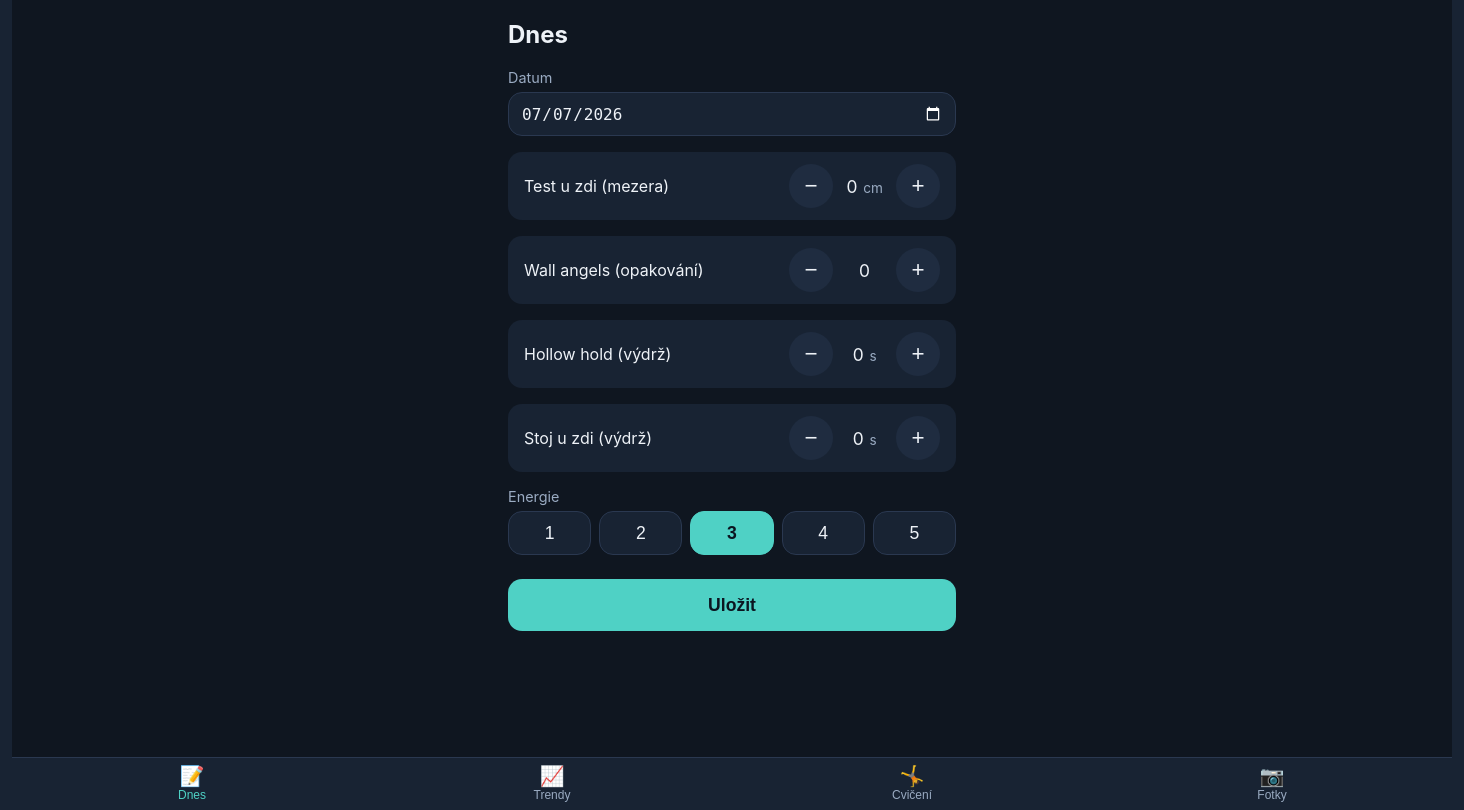
it: App › switches to Trendy, Cvičení and Fotky via the bottom tab bar
Click the button "📈 Trendy" at [552, 784], box [372,758,732,809]
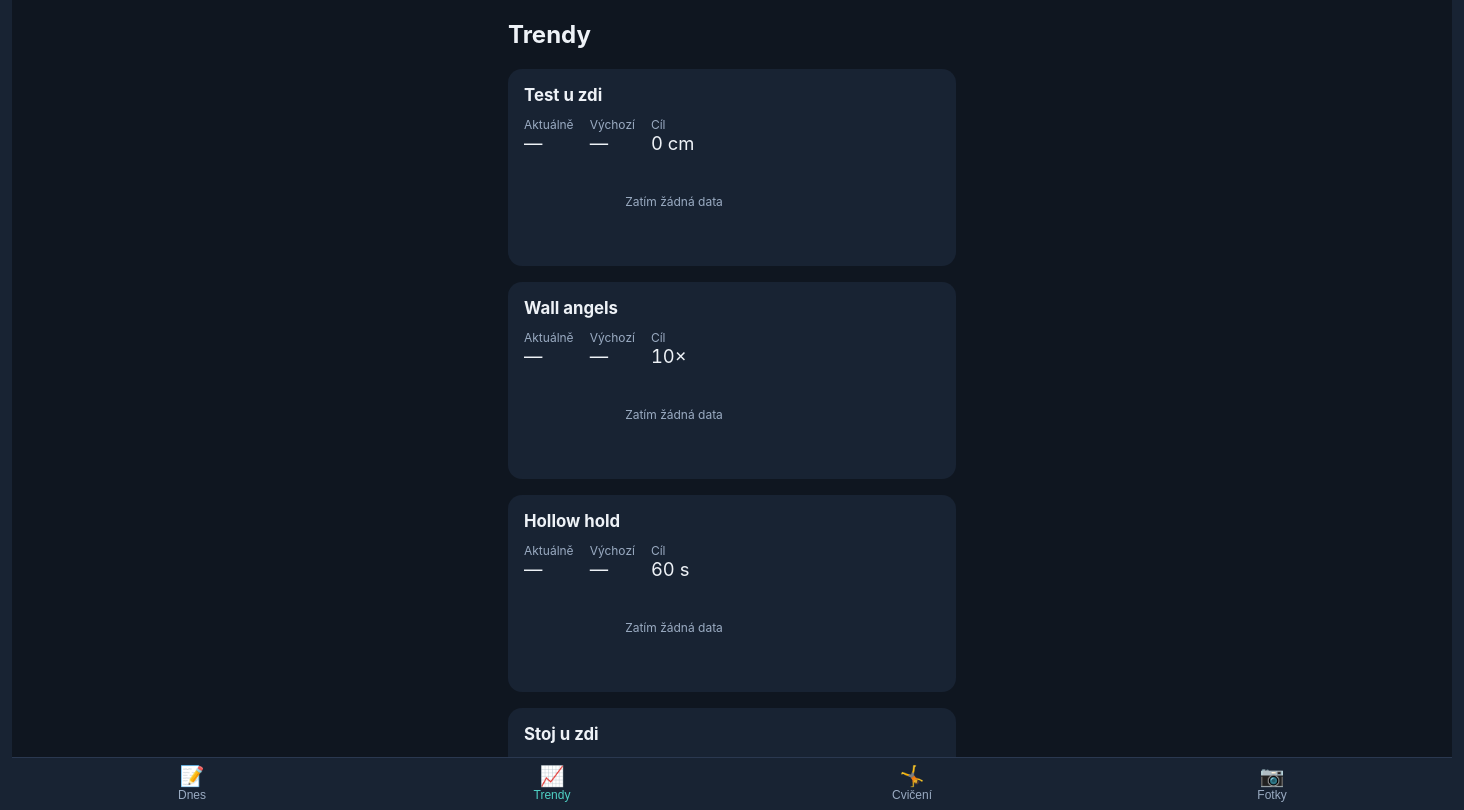
Now the heading "Trendy" is shown, box [508,20,591,49]
Click the button "🤸 Cvičení" at [912, 784], box [732,758,1092,809]
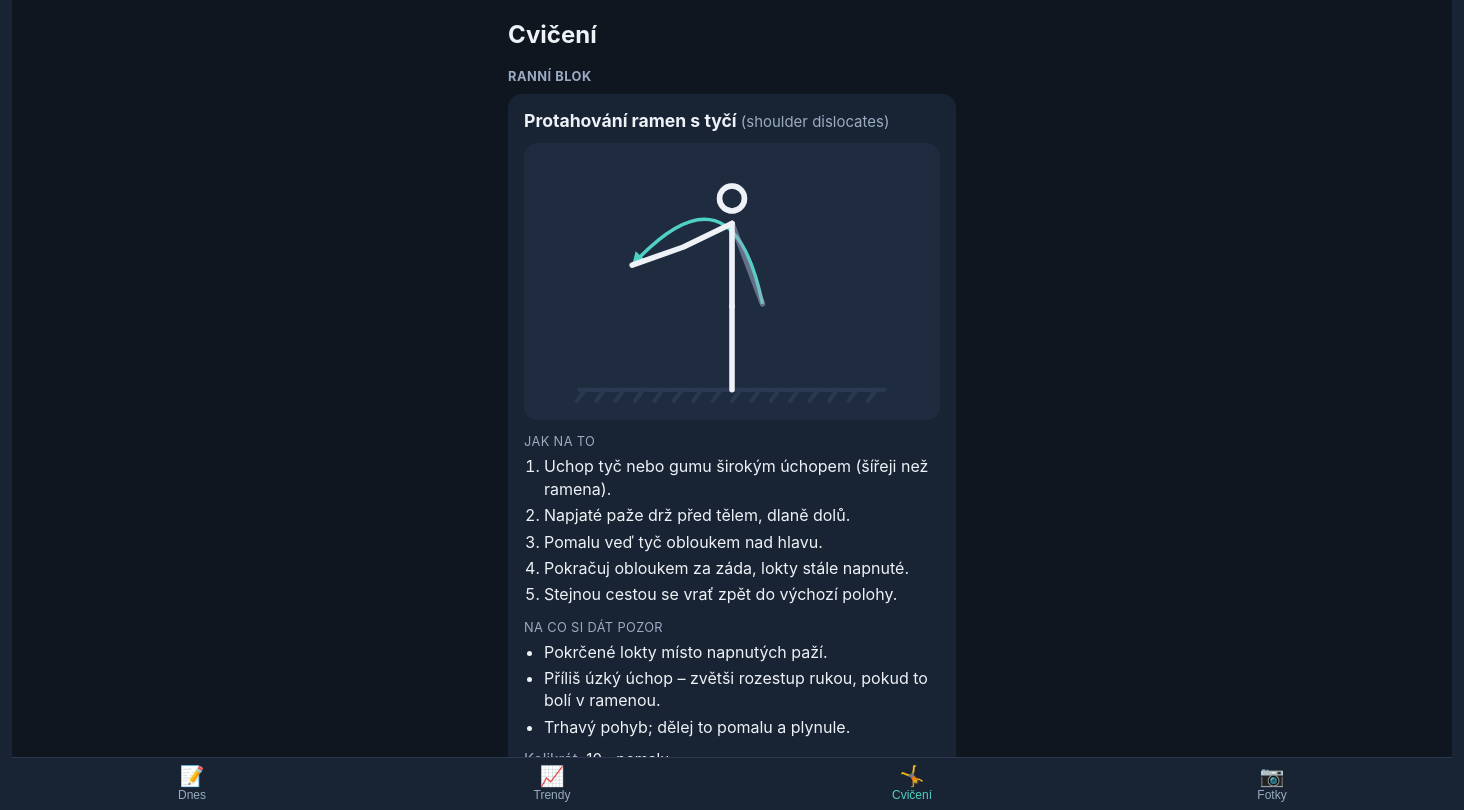
Now the heading "Cvičení" is shown, box [508,20,597,49]
Click the button "📷 Fotky" at [1272, 784], box [1092,758,1452,809]
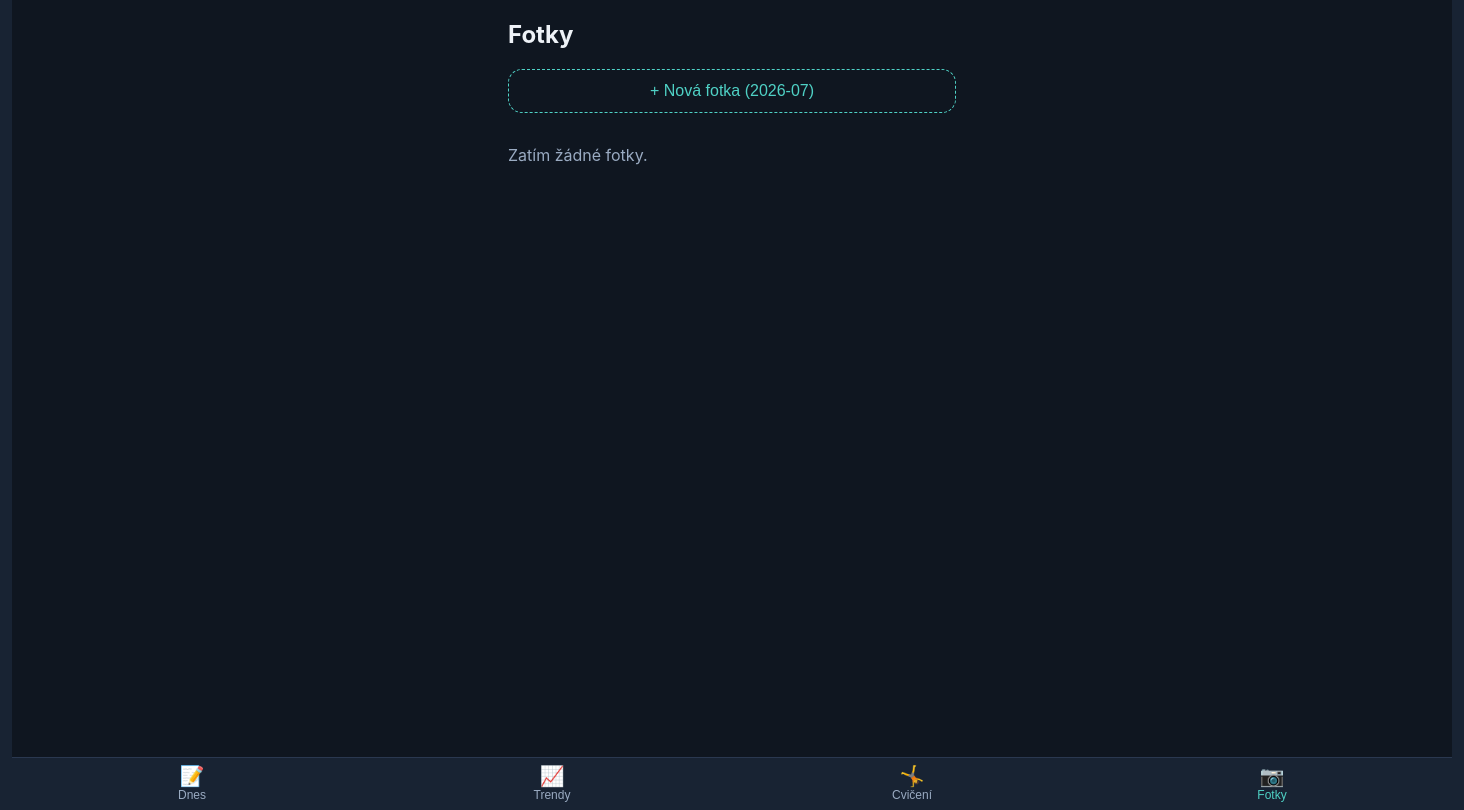
Now the heading "Fotky" is shown, box [508,20,574,49]
